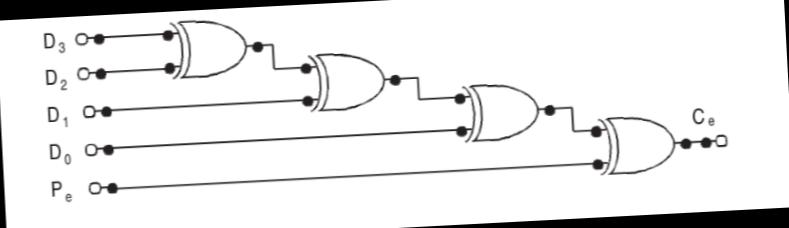xor: (309, 41, 388, 121), (170, 10, 253, 86), (464, 78, 544, 148), (600, 111, 679, 178)
